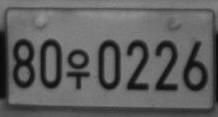0: (96, 38, 121, 90), (38, 37, 62, 89)
2: (124, 38, 150, 90), (154, 39, 178, 90)
6: (182, 40, 208, 92)
8: (12, 37, 35, 89)
우: (66, 48, 90, 89)
